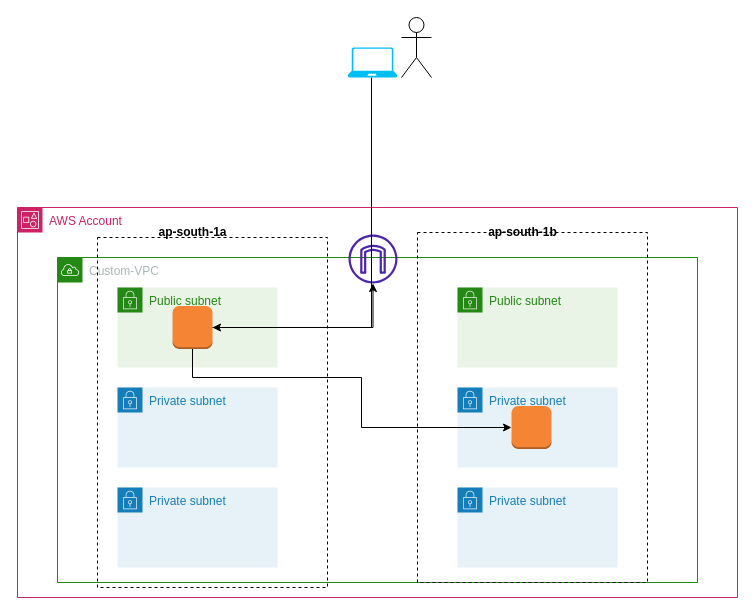
The diagram is 755 pixels wide and 615 high, and some of its shapes have lost their labels. The centre of each missing label's shape, as x and y in pixels:
"Actor" belongs at (416,47).
"JUMP Server" belongs at (192,327).
"Private Server" belongs at (531,427).
